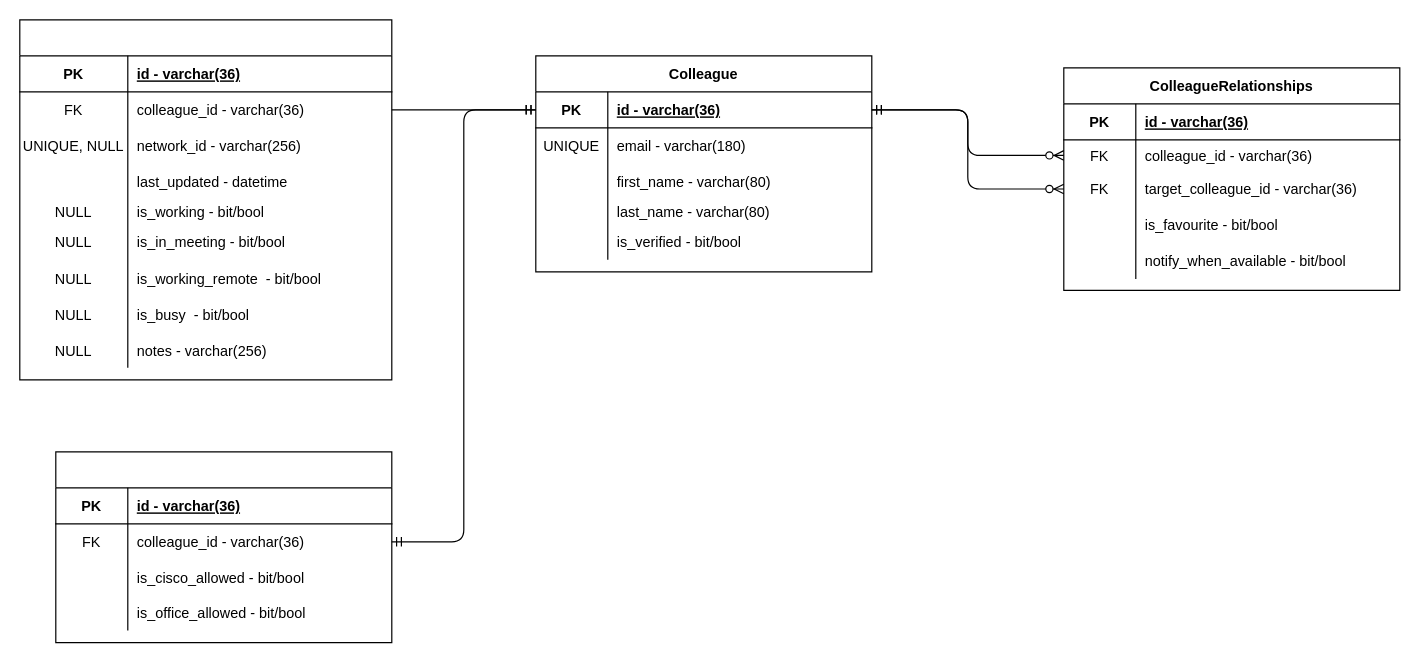
This 1420x662 diagram has some shape labels left out. The box of each missing label's shape, as (x1, y1, x2, y2) in pixels:
ColleagueConsent: (55, 451, 392, 643)
ColleagueLocation: (19, 19, 392, 380)
